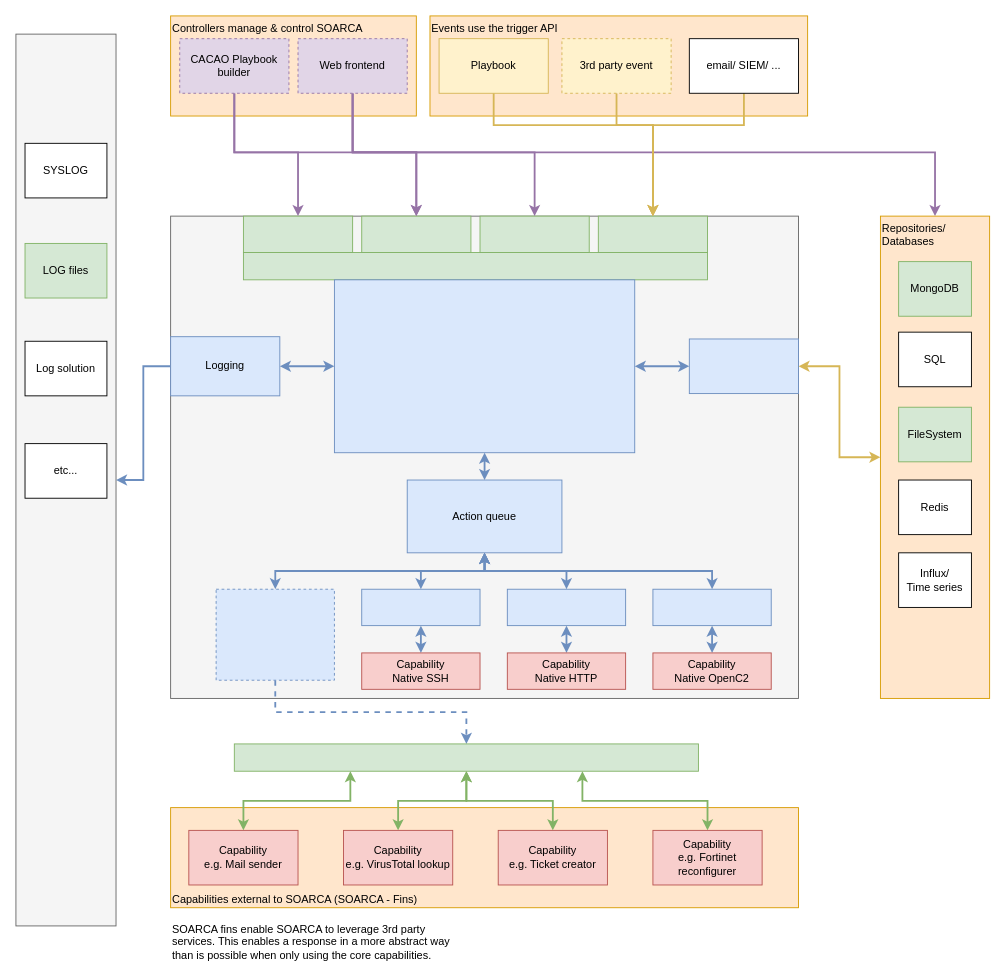
This 1006x978 diagram has some shape labels left out. The centre of each missing label's shape, as x and y in pixels:
"Core HTTP Action Executor" goes at (566,607).
"Core OpenC2 Action Executor" goes at (711,607).
"Core SSH Action Executor" goes at (420,607).
"Database/Storage" goes at (743,366).
"External module Action Executor" goes at (274,634).
"MQTT" goes at (465,757).
"Orchestrator engine" goes at (484,366).
"Playbooks" goes at (416,234).
"SOAR-CA-API" goes at (475,266).
"Status" goes at (534,234).
"Trigger" goes at (652,234).
"Variables" goes at (298,234).
